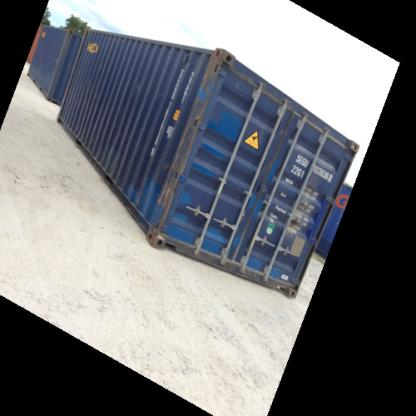Damage: (185, 49, 228, 143), (152, 131, 189, 226)
